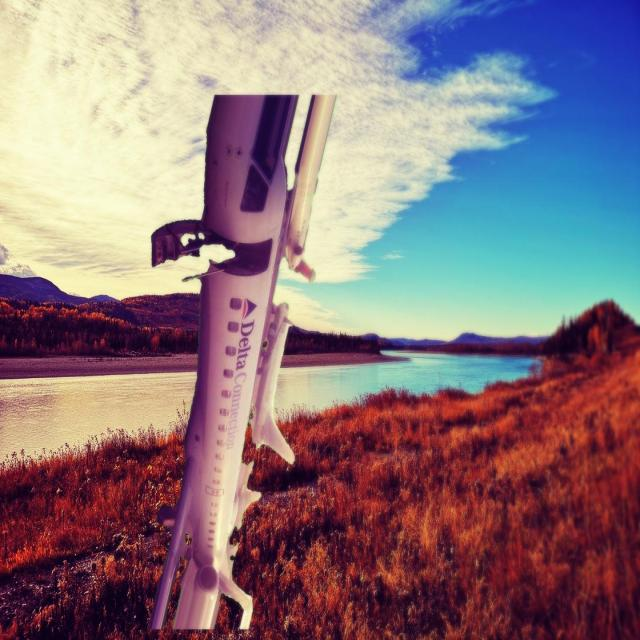airplane: (147, 92, 337, 631)
